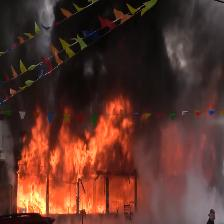fire: (18, 140, 130, 213), (96, 101, 130, 138)
smoke: (7, 9, 213, 94)
